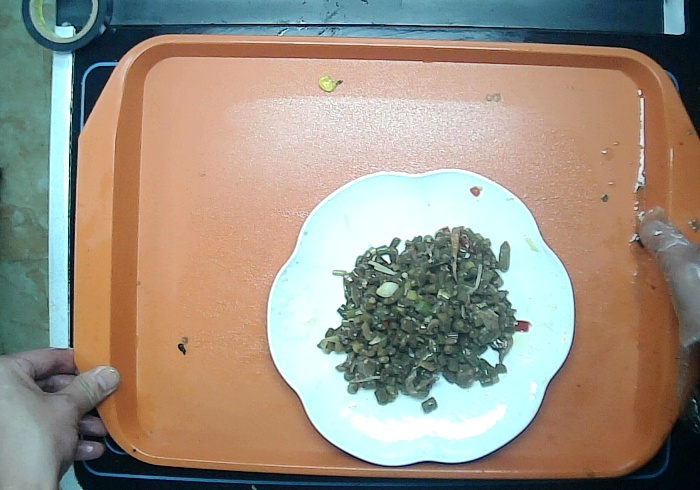HZYJPL-Bai_Se_Hua_Duo_Wan: (269, 166, 576, 463)
